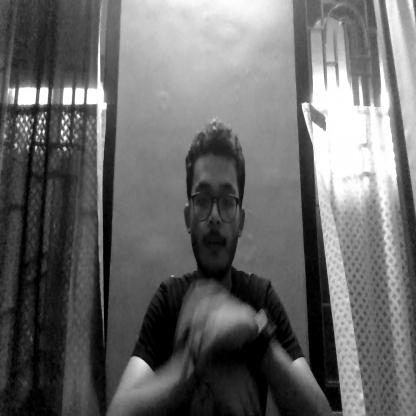Normal: (181, 124, 258, 266)
